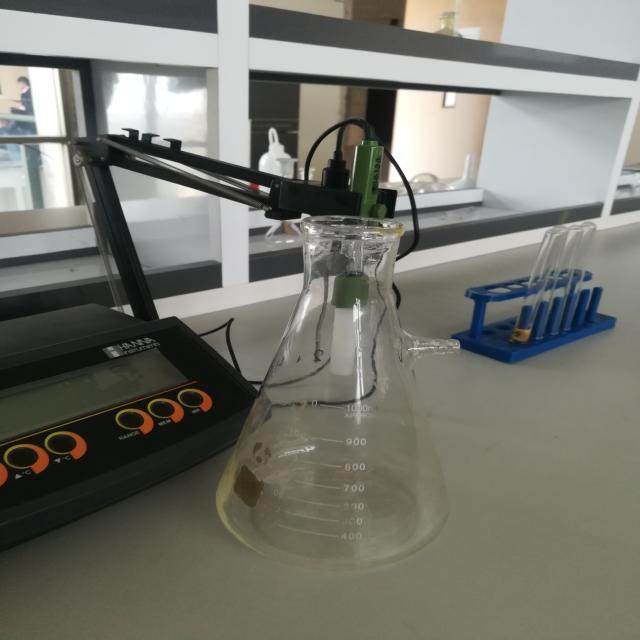Conical_Flask: (188, 170, 518, 587)
